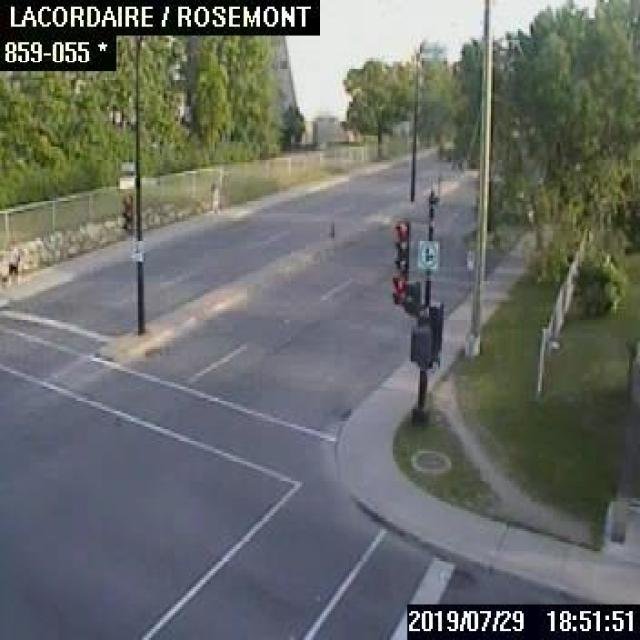pedestrian: (5, 236, 19, 283)
